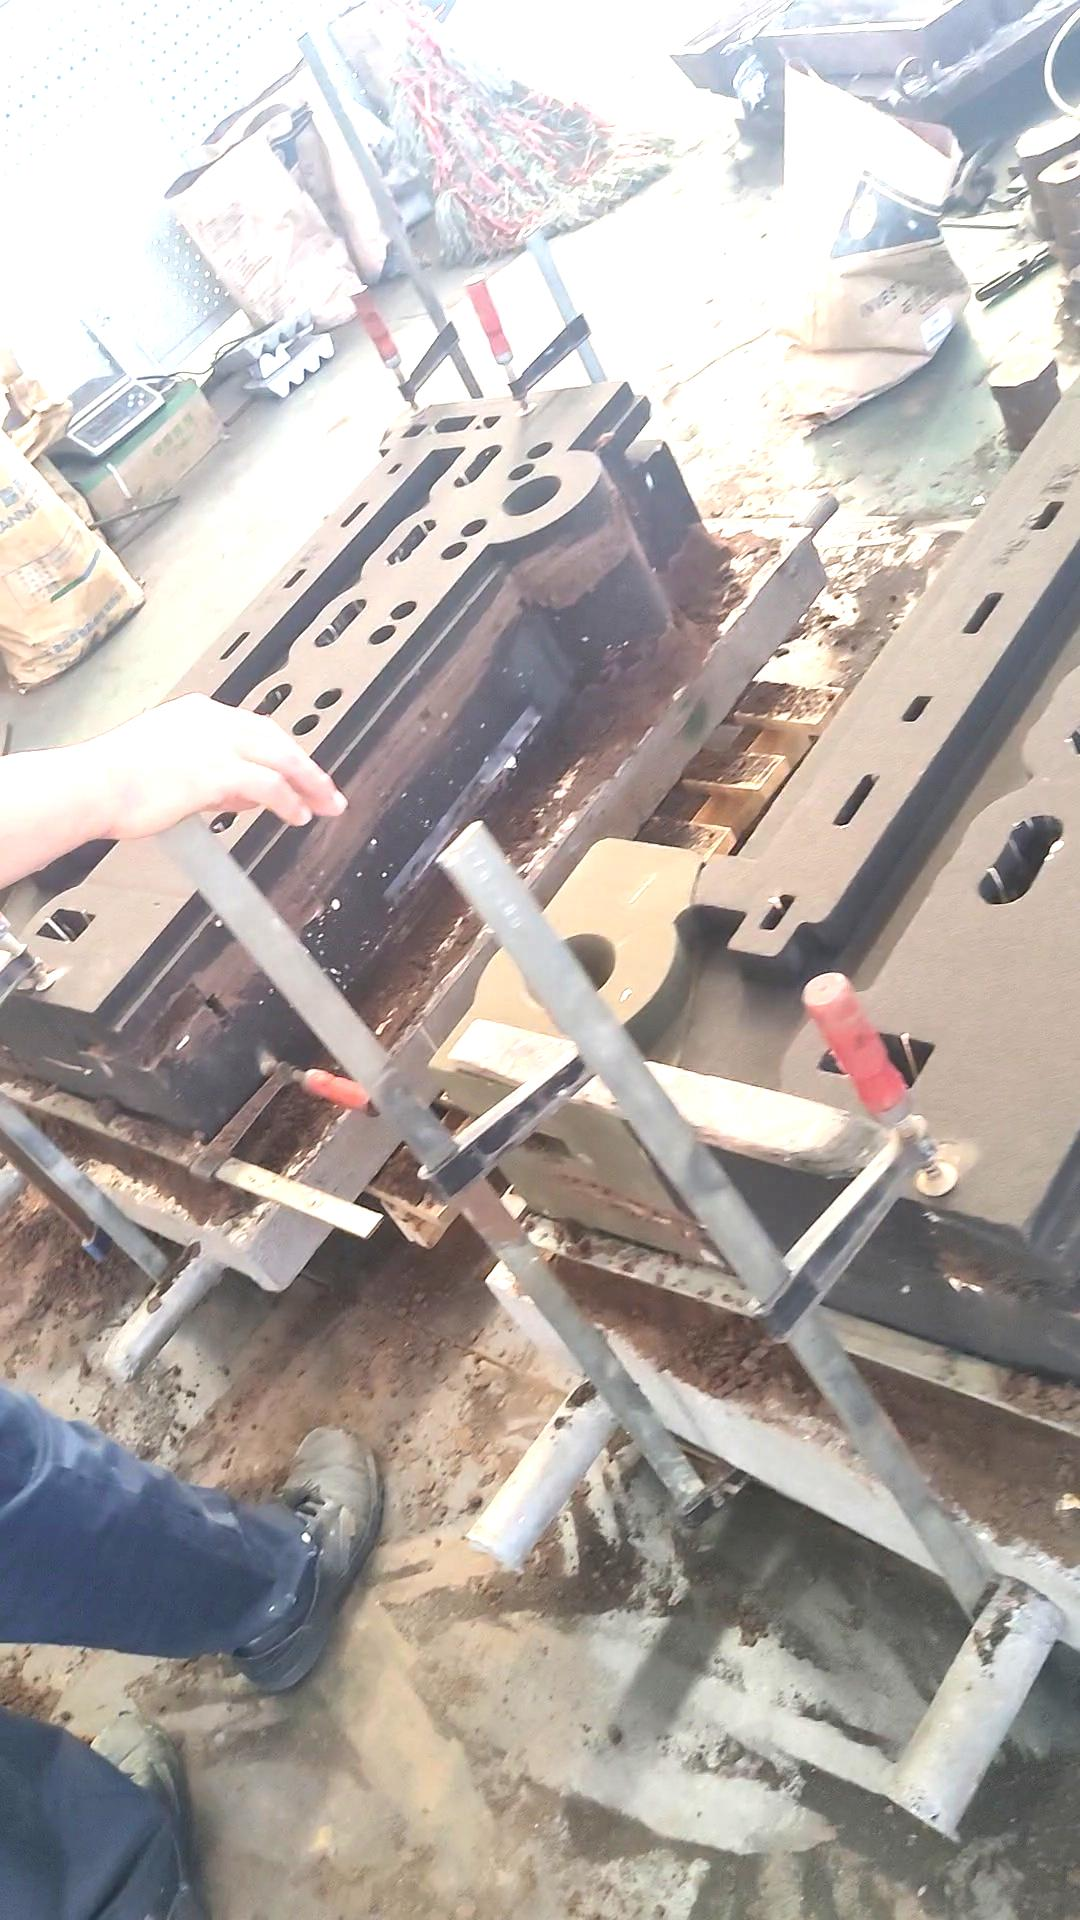pouring hole: (524, 931, 617, 1004), (502, 473, 562, 517)
